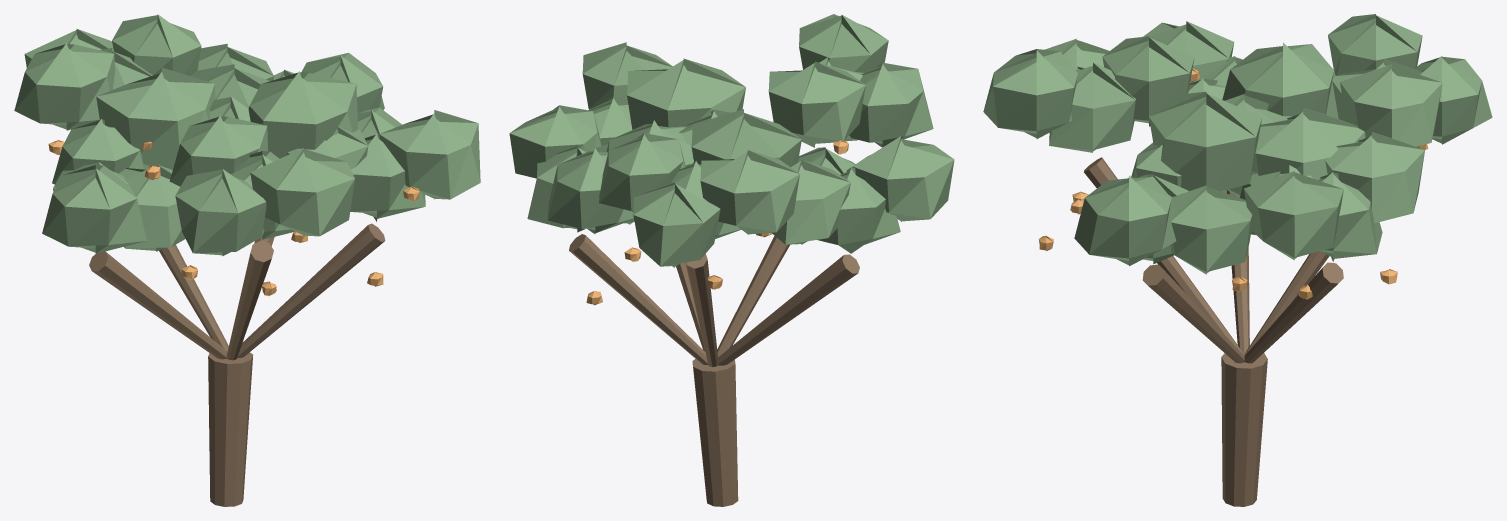
Rendered from korean-hanok-village-and-street-persimmon-tree-ec7be2f6.glb.
3 views of the same model, side by side, from view 1: azimuth 30°, elevation 25°; view 2: azimuth 150°, elevation 25°; view 3: azimuth 270°, elevation 25° (orthographic). The views are drawn at different scales.
Visible parts, largest first — view 1: persimmon-tree; view 2: persimmon-tree; view 3: persimmon-tree.
Part boxes in pixels (x1,y1,x2,y2): persimmon-tree: (14, 14, 480, 506); persimmon-tree: (509, 14, 954, 506); persimmon-tree: (983, 14, 1492, 506).
Bounding box in the file's own units: 3.81 × 3.96 × 4.16.
